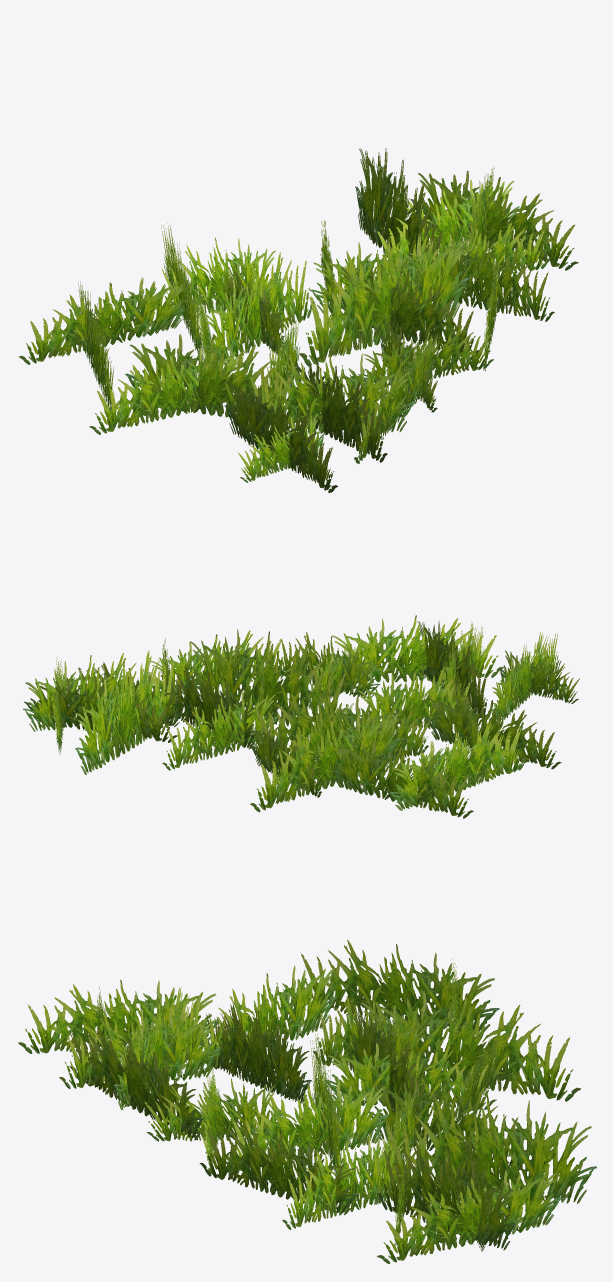
The model's file is DN_grass08c.FBX.
The picture shows the model from 3 angles, top to bottom: view 1: azimuth 30°, elevation 25°; view 2: azimuth 150°, elevation 25°; view 3: azimuth 270°, elevation 25°; orthographic projection. The views are drawn at different scales.
Visible parts, largest first — view 1: DN_grass08c; view 2: DN_grass08c; view 3: DN_grass08c.
Boxes of the visible parts, box(x1,y1,x2,y2) form: DN_grass08c: box(18, 148, 578, 492); DN_grass08c: box(23, 615, 579, 818); DN_grass08c: box(18, 939, 596, 1263).
Size of the model in its own units: 155 by 56.24 by 134.
Materials: 1 (1 with a texture image).
